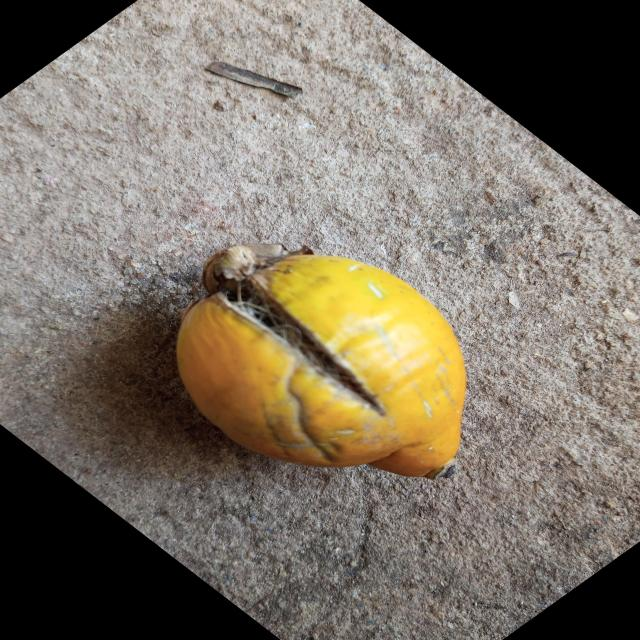damaged: (175, 248, 467, 481)
